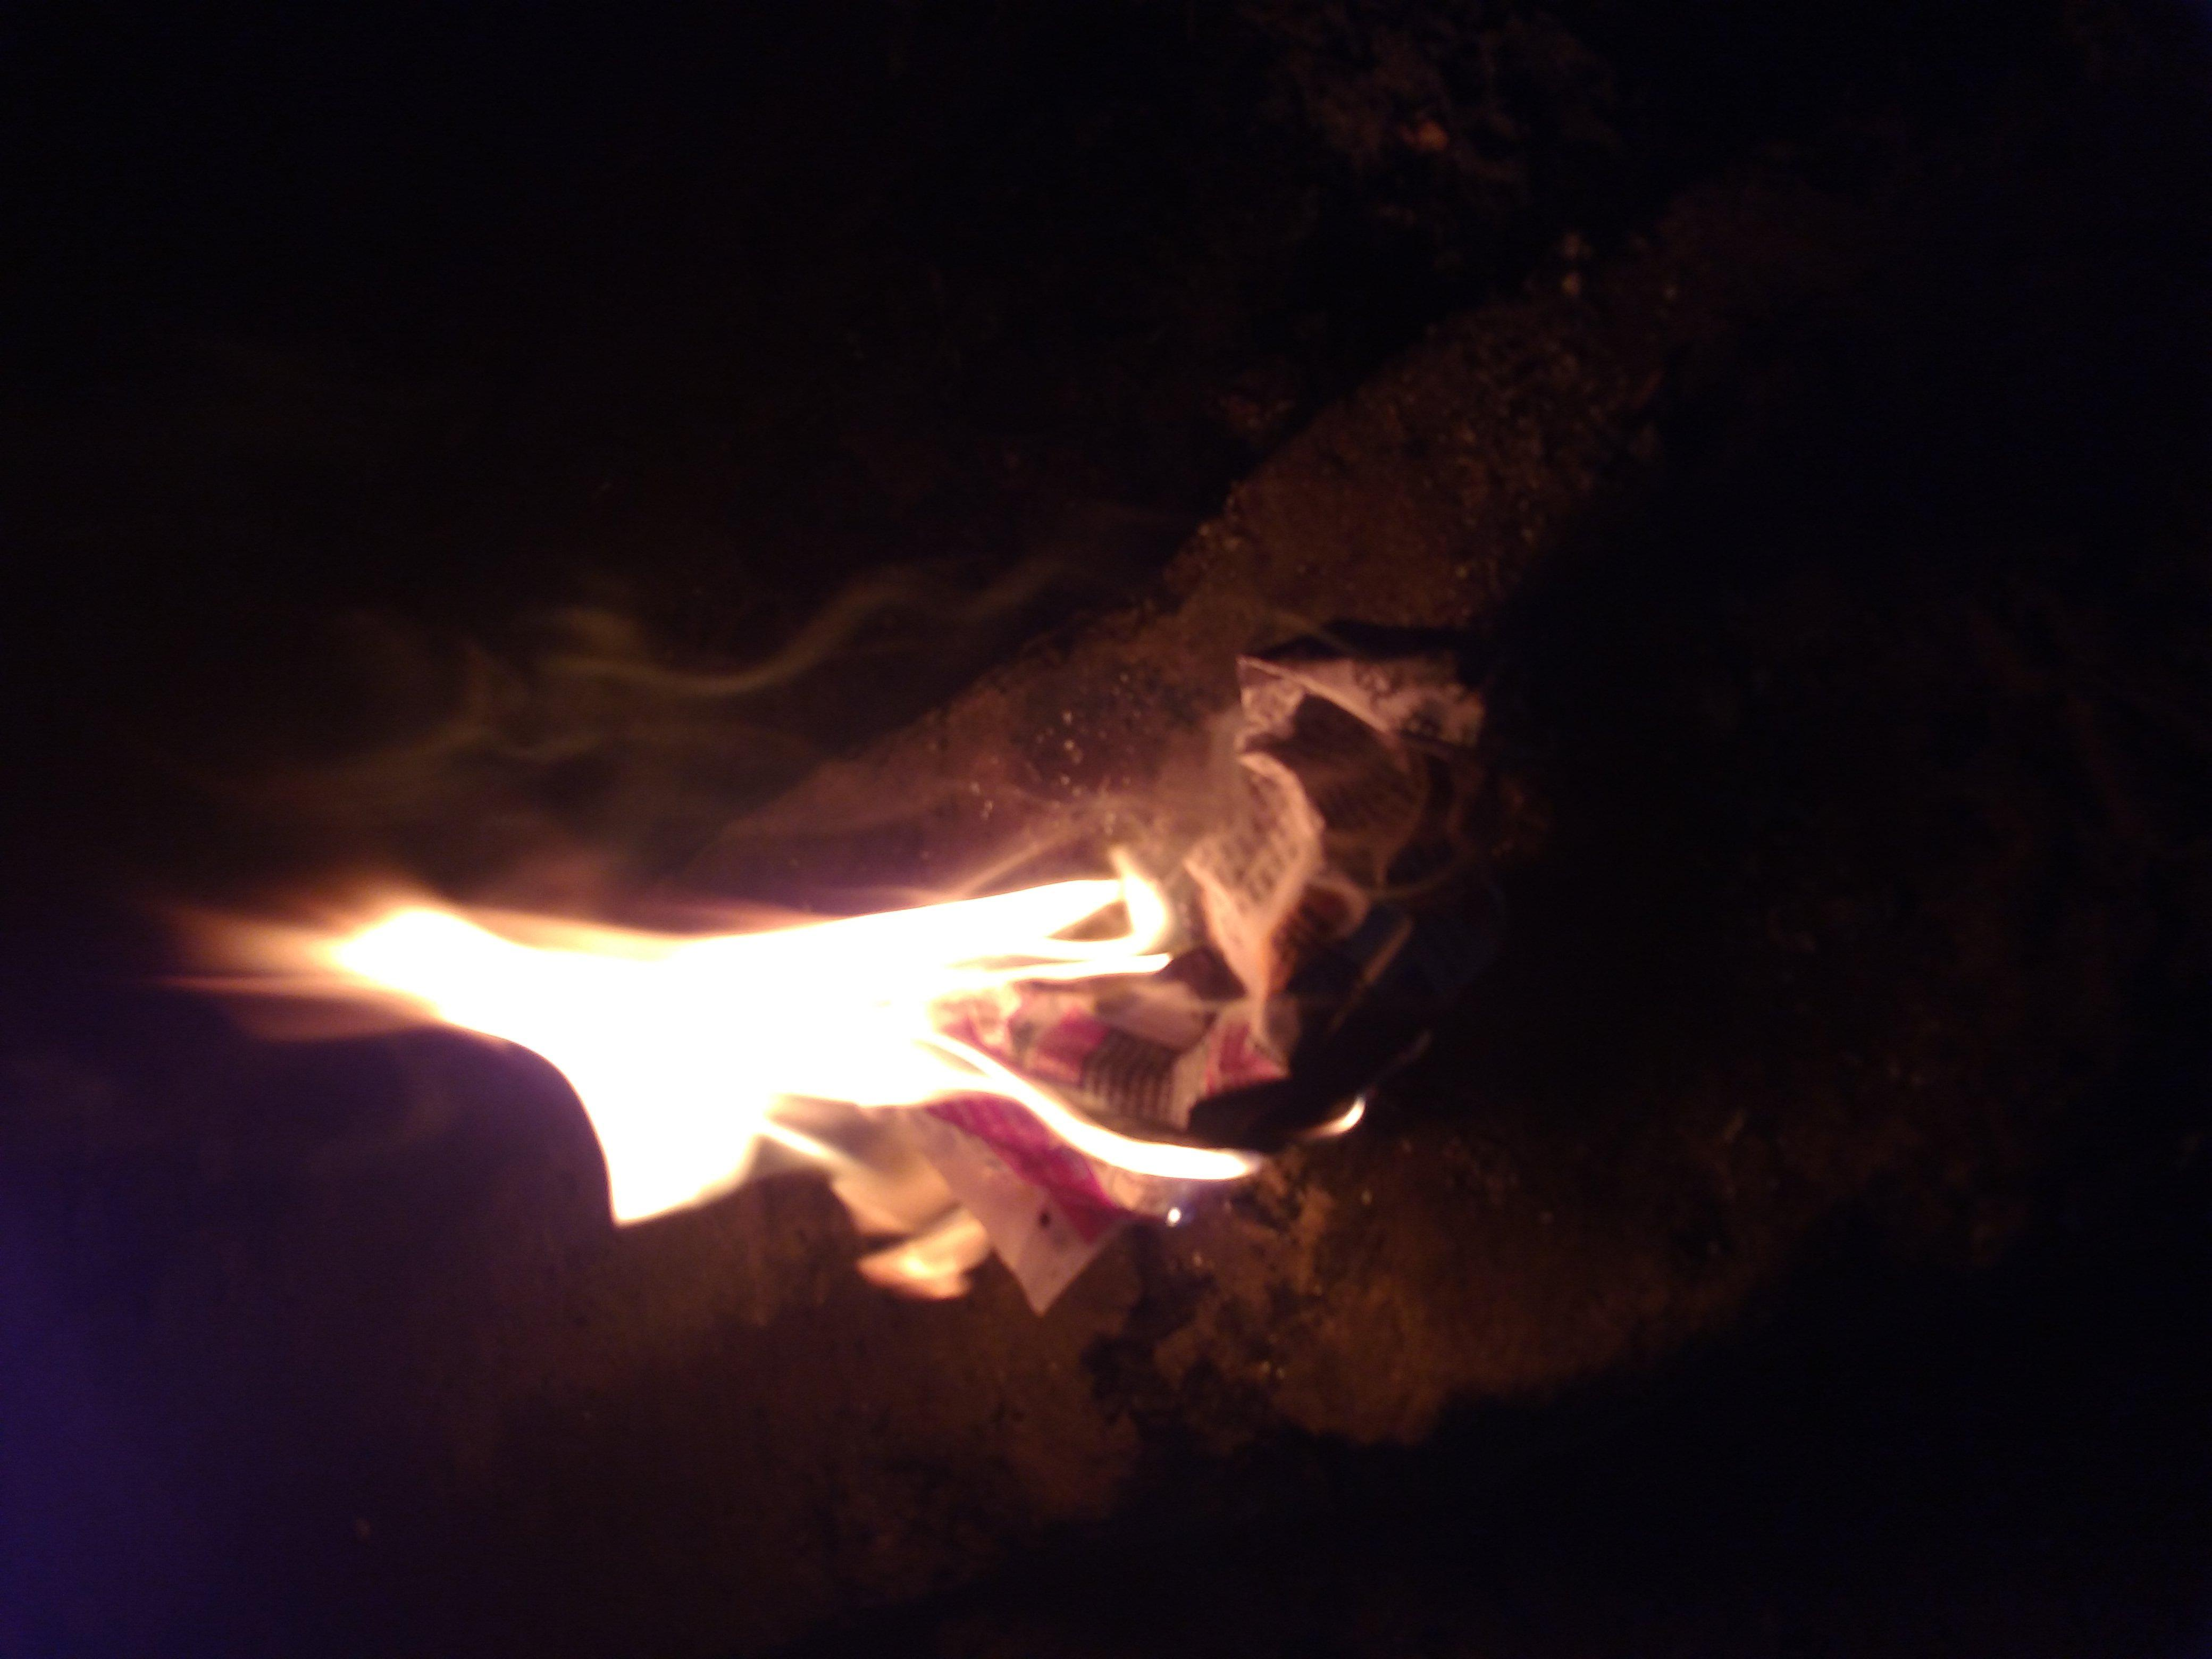fire: (464, 120, 1093, 1018)
